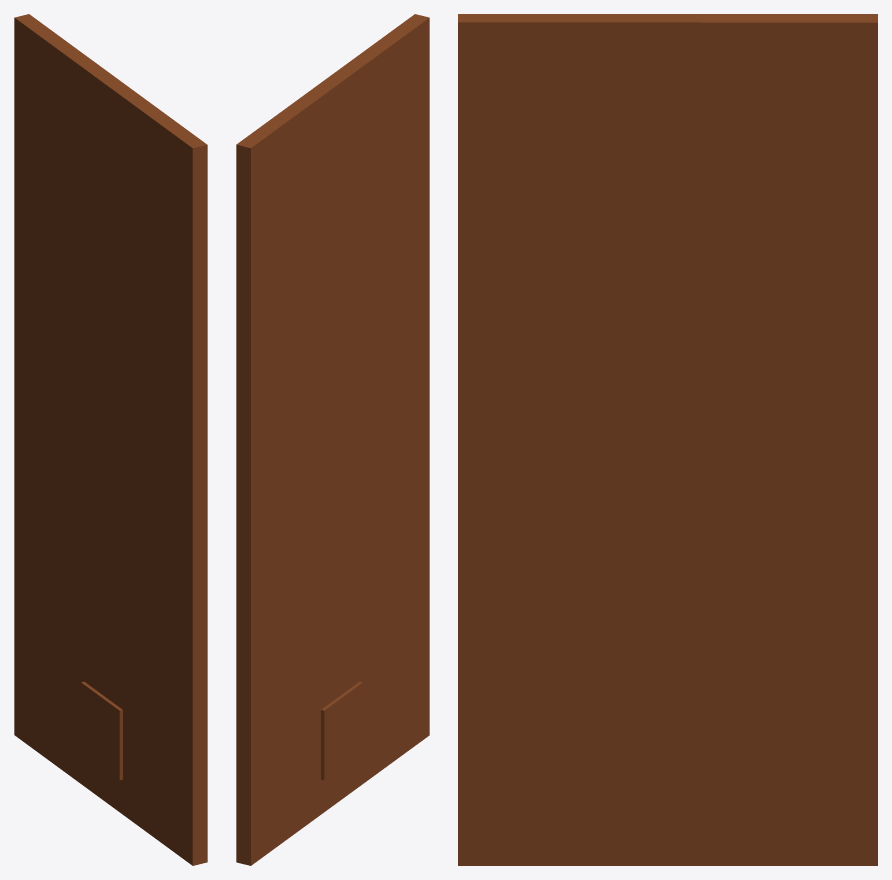
File: MainDoor1Transformed1.fbx
3 renders of one model, left to right at view 1: azimuth 30°, elevation 25°; view 2: azimuth 150°, elevation 25°; view 3: azimuth 270°, elevation 25°, orthographic. The views are drawn at different scales.
Visible parts, largest first — view 1: HB_Door_Concept_Int_Sgl_Solid_- DT-01 (with Grille):1010x211; view 2: HB_Door_Concept_Int_Sgl_Solid_- DT-01 (with Grille):1010x211; view 3: HB_Door_Concept_Int_Sgl_Solid_- DT-01 (with Grille):1010x211.
Boxes of the visible parts, box(x1,y1,x2,y2) form: HB_Door_Concept_Int_Sgl_Solid_- DT-01 (with Grille):1010x211: box(14, 14, 207, 865); HB_Door_Concept_Int_Sgl_Solid_- DT-01 (with Grille):1010x211: box(236, 14, 429, 865); HB_Door_Concept_Int_Sgl_Solid_- DT-01 (with Grille):1010x211: box(458, 14, 877, 865).
Bounding box in the file's own units: 0.0544 × 2.05 × 0.926.
